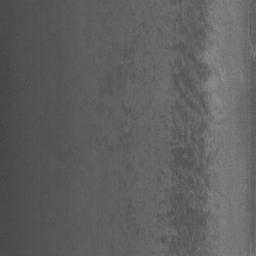Silk spot: (106, 0, 221, 256), (102, 12, 120, 35)
